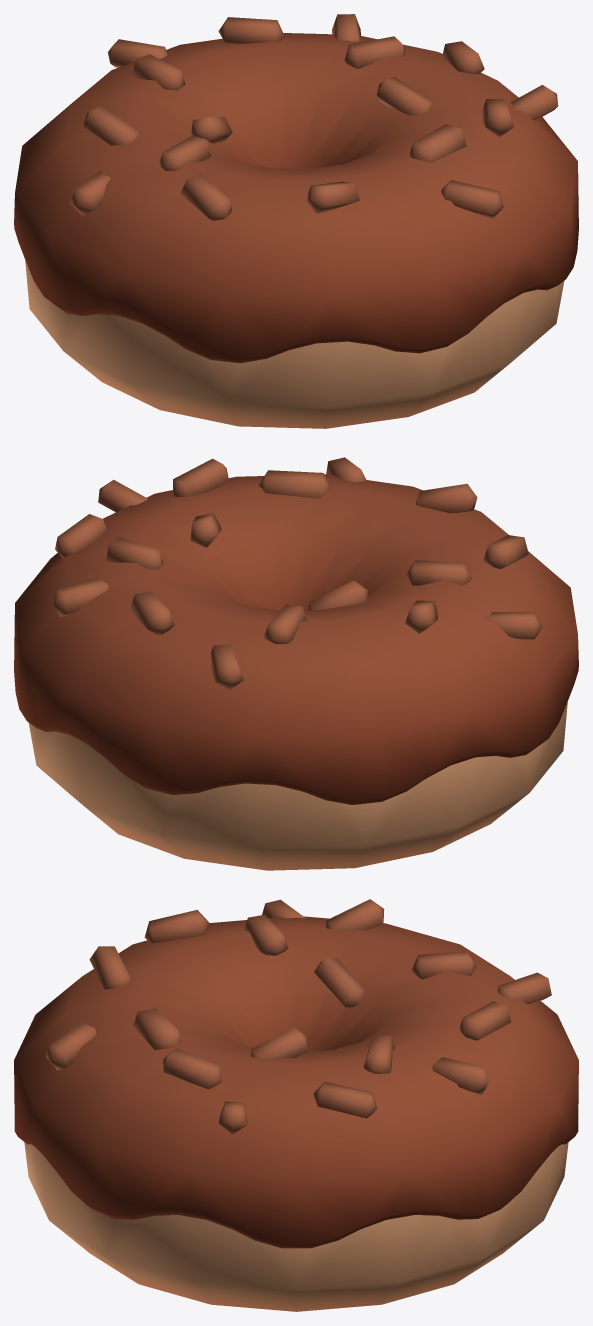
Rendered from donut_chocolate.obj.
3 views of the same model, one above another, from view 1: azimuth 30°, elevation 25°; view 2: azimuth 150°, elevation 25°; view 3: azimuth 270°, elevation 25° (orthographic).
Visible parts, largest first — view 1: donut_chocolate; view 2: donut_chocolate; view 3: donut_chocolate.
Boxes of the visible parts, bbox=[...] form: donut_chocolate: bbox=[14, 14, 578, 428]; donut_chocolate: bbox=[14, 457, 578, 870]; donut_chocolate: bbox=[14, 899, 578, 1311].
Size of the model in its own units: 0.417 by 0.2047 by 0.417.
1 material, 1 textured.
